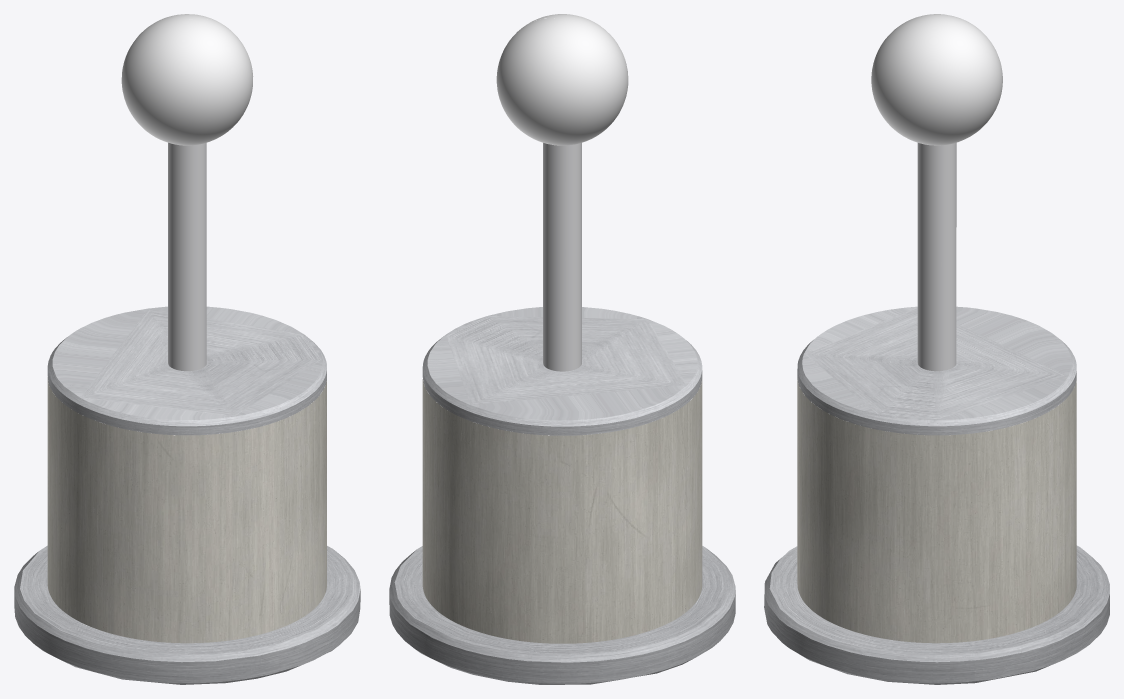
The model's file is pawn-white.glb.
3 views of the same model, side by side, from view 1: azimuth 30°, elevation 25°; view 2: azimuth 150°, elevation 25°; view 3: azimuth 270°, elevation 25° (orthographic).
Visible parts, largest first — view 1: ferro-orbis_pawn_white; view 2: ferro-orbis_pawn_white; view 3: ferro-orbis_pawn_white.
Part boxes in pixels (x1,y1,x2,y2): ferro-orbis_pawn_white: (14,14,360,684); ferro-orbis_pawn_white: (389,14,735,684); ferro-orbis_pawn_white: (764,14,1109,684).
Bounding box in the file's own units: 0.4551 × 0.86 × 0.4544.
Materials: 5 (3 with a texture image).
